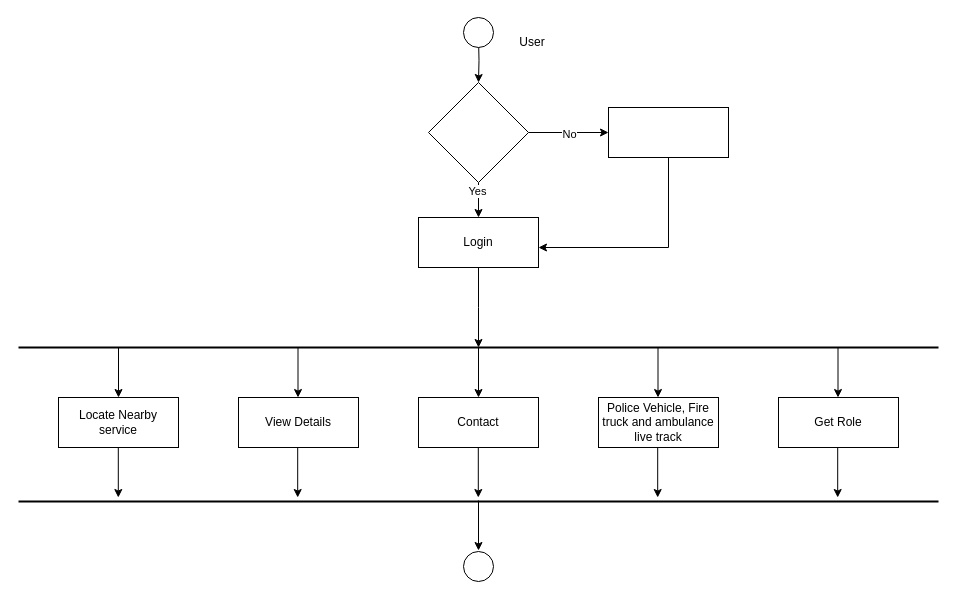
The diagram is 957 pixels wide and 599 high, and some of its shapes have lost their labels. The shapes that lost their labels are listed below. From the top down, each one's box as (x1, y1, x2, y2) in pixels, then its label:
(428, 82, 528, 182): Registered
(608, 106, 728, 158): Signup
